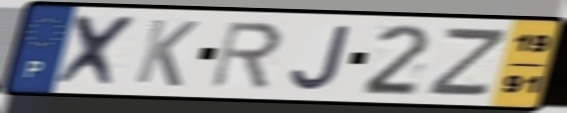2: (356, 23, 434, 97)
J: (288, 23, 355, 93)
K: (131, 16, 202, 90)
R: (208, 20, 287, 91)
X: (51, 12, 144, 90)
Z: (422, 27, 513, 99)
